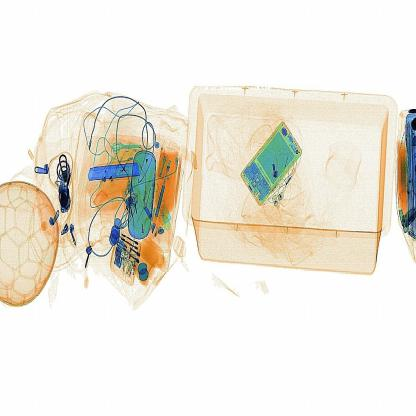pliers: (86, 160, 144, 194)
